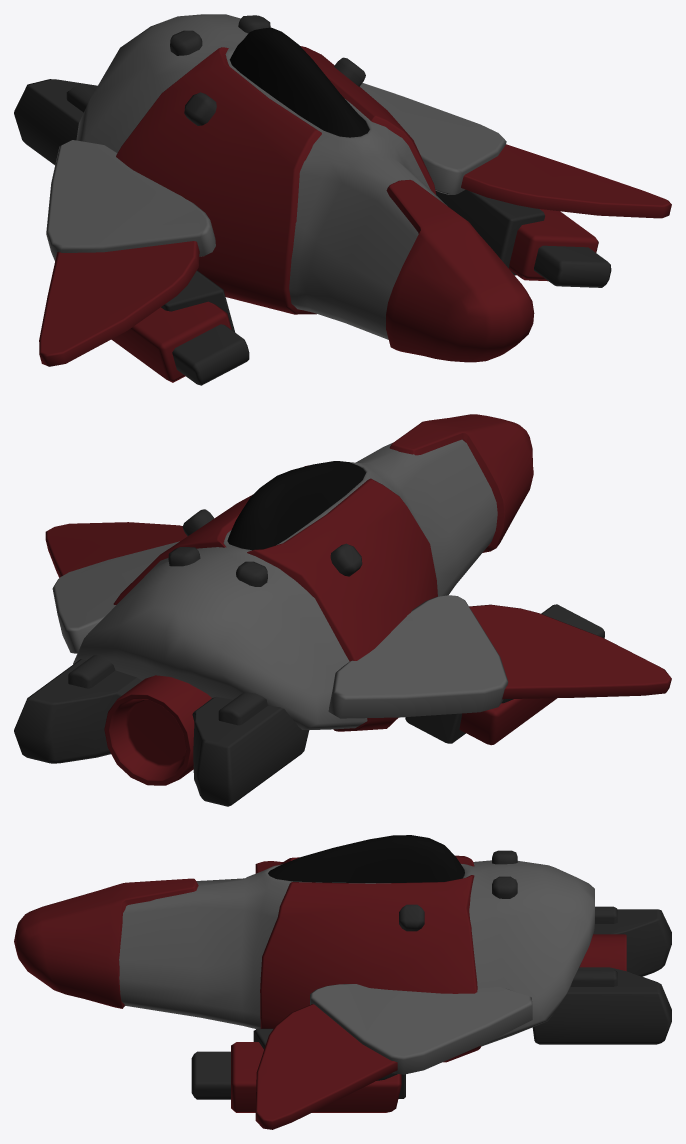
Rendered from LittleEnnemy5.glb.
The picture shows the model from 3 angles, top to bottom: view 1: azimuth 30°, elevation 25°; view 2: azimuth 150°, elevation 25°; view 3: azimuth 270°, elevation 25°; orthographic projection. The views are drawn at different scales.
Visible parts, largest first — view 1: Ship_enemy_05_Hull, Ship_enemy_05_Wing_R, Ship_enemy_05_Wing_L, Ship_enemy_05_Weapon_L, Ship_enemy_05_Weapon_R, Ship_enemy_05_Engine; view 2: Ship_enemy_05_Hull, Ship_enemy_05_Wing_R, Ship_enemy_05_Engine, Ship_enemy_05_Wing_L, Ship_enemy_05_Weapon_R; view 3: Ship_enemy_05_Hull, Ship_enemy_05_Wing_L, Ship_enemy_05_Engine, Ship_enemy_05_Weapon_L.
Boxes of the visible parts, x1,y1,x2,y2 form: Ship_enemy_05_Hull: [76, 14, 534, 362]; Ship_enemy_05_Wing_R: [39, 140, 215, 366]; Ship_enemy_05_Wing_L: [360, 83, 671, 218]; Ship_enemy_05_Weapon_L: [435, 189, 611, 287]; Ship_enemy_05_Weapon_R: [111, 270, 249, 385]; Ship_enemy_05_Engine: [14, 79, 97, 164]; Ship_enemy_05_Hull: [73, 414, 533, 731]; Ship_enemy_05_Wing_R: [328, 595, 671, 718]; Ship_enemy_05_Engine: [14, 655, 309, 806]; Ship_enemy_05_Wing_L: [45, 522, 187, 653]; Ship_enemy_05_Weapon_R: [405, 604, 604, 745]; Ship_enemy_05_Hull: [14, 835, 594, 1062]; Ship_enemy_05_Wing_L: [255, 984, 532, 1129]; Ship_enemy_05_Engine: [532, 906, 671, 1044]; Ship_enemy_05_Weapon_L: [191, 1028, 405, 1112].
Size of the model in its own units: 5.62 by 1.92 by 6.
1 material, 1 textured.
